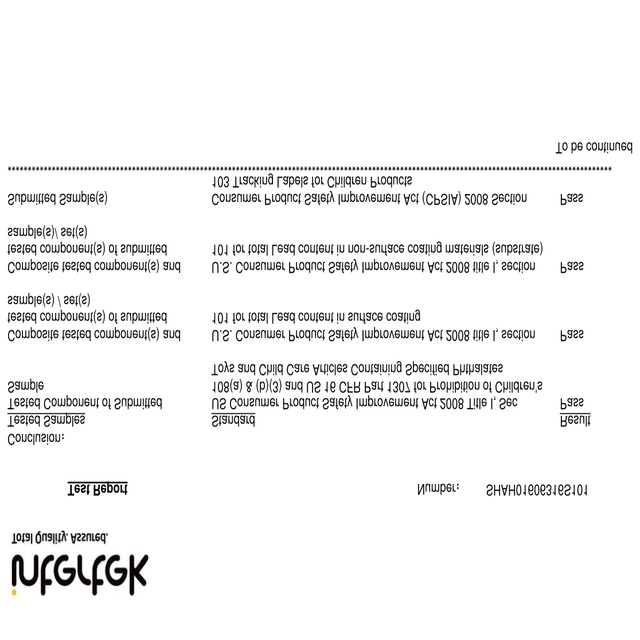intertek: (4, 546, 152, 598)
